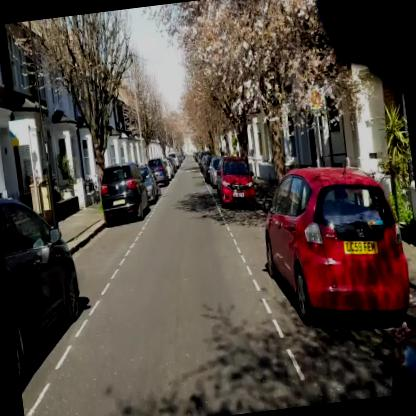car: (256, 156, 414, 332), (0, 189, 93, 408), (98, 161, 151, 226), (214, 154, 258, 212), (137, 162, 158, 206), (146, 157, 170, 188), (206, 154, 224, 188)
